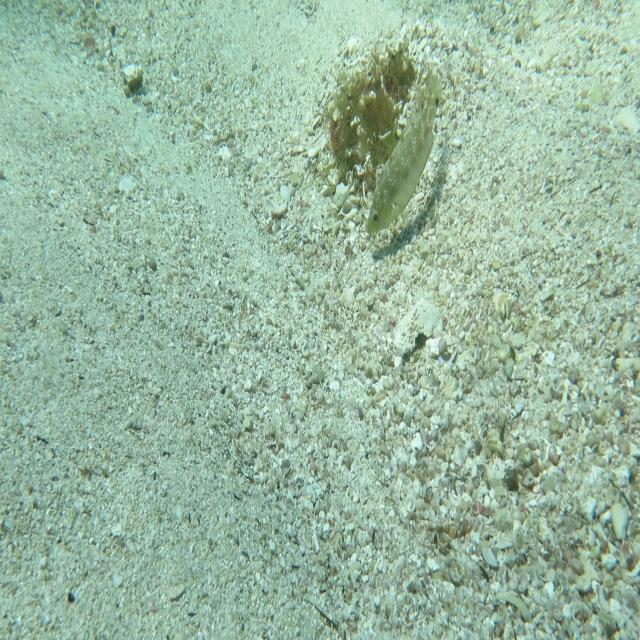SA: (365, 63, 446, 241)
core_nest: (371, 61, 404, 100)
nest: (320, 32, 418, 200)
vegetation: (124, 75, 144, 101)
